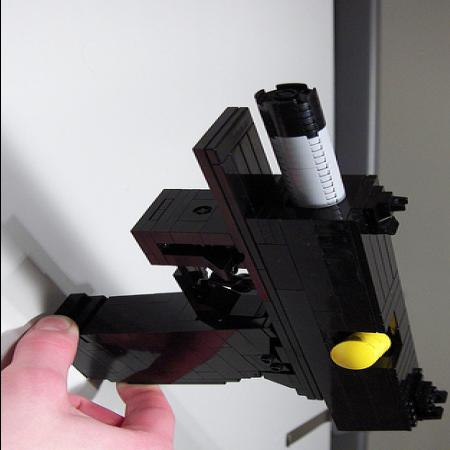Pistol: (53, 82, 447, 432)
